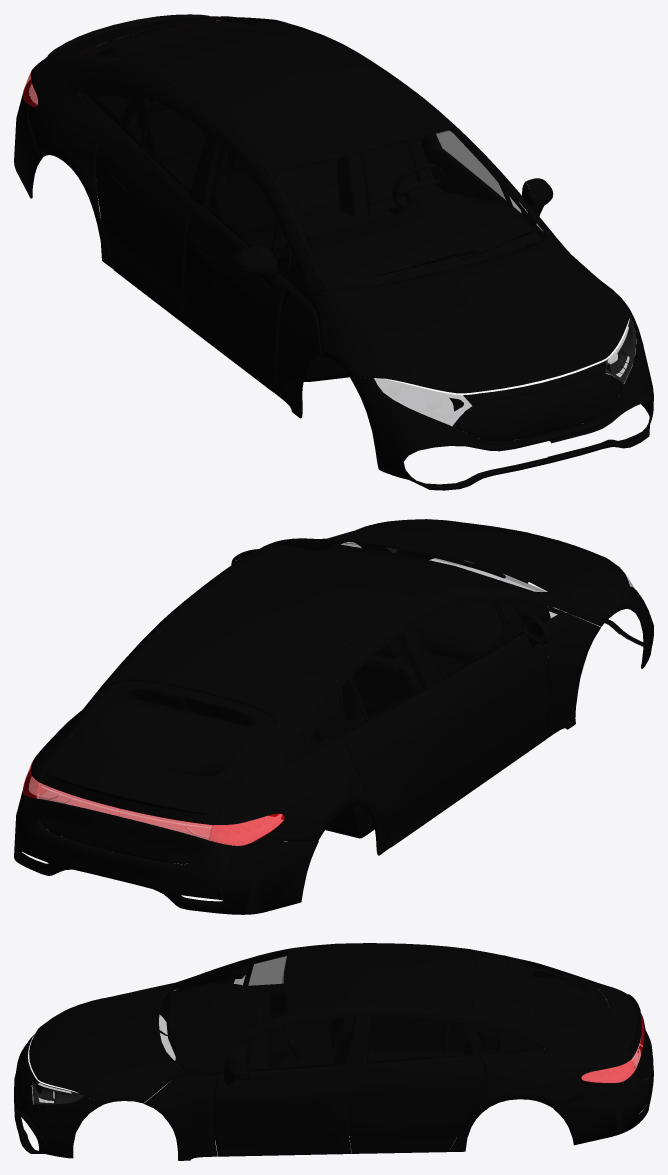
File: car.glb
3 renders of one model, top to bottom at view 1: azimuth 30°, elevation 25°; view 2: azimuth 150°, elevation 25°; view 3: azimuth 270°, elevation 25°, orthographic. The views are drawn at different scales.
Parts seen in each view (by area): view 1: Plane.002, windshield, Plane.006, BUMPER.004, BUMPER.001, Plane.004, Plane.001, headlight.002, HEADLIGHT, whipper.003, grill.001, front headlight.003; view 2: Plane.002, Plane.006, Plane.004, BUMPER.004, BUMPER.001, windshield, whipper.003, in light.004; view 3: Plane.002, Plane.004, Plane.006, windshield, BUMPER.004, BUMPER.001, Plane.001, front headlight.003, steer.002, grill.001.
Part boxes in pixels (x1=…): Plane.002: x1=14, y1=14, x2=653, y2=490; windshield: x1=272, y1=127, x2=547, y2=289; Plane.006: x1=157, y1=34, x2=451, y2=172; BUMPER.004: x1=276, y1=192, x2=542, y2=289; BUMPER.001: x1=125, y1=97, x2=428, y2=283; Plane.004: x1=90, y1=17, x2=545, y2=381; Plane.001: x1=374, y1=316, x2=636, y2=426; headlight.002: x1=463, y1=361, x2=605, y2=405; HEADLIGHT: x1=383, y1=318, x2=629, y2=419; whipper.003: x1=372, y1=227, x2=539, y2=286; grill.001: x1=548, y1=394, x2=653, y2=458; front headlight.003: x1=605, y1=315, x2=635, y2=383; Plane.002: x1=14, y1=519, x2=653, y2=914; Plane.006: x1=157, y1=544, x2=451, y2=674; Plane.004: x1=69, y1=541, x2=545, y2=838; BUMPER.004: x1=316, y1=545, x2=550, y2=725; BUMPER.001: x1=124, y1=638, x2=420, y2=742; windshield: x1=273, y1=538, x2=546, y2=591; whipper.003: x1=328, y1=536, x2=528, y2=583; in light.004: x1=29, y1=777, x2=281, y2=841; Plane.002: x1=14, y1=943, x2=653, y2=1160; Plane.004: x1=178, y1=951, x2=606, y2=1139; Plane.006: x1=283, y1=943, x2=475, y2=1012; windshield: x1=159, y1=949, x2=288, y2=1060; BUMPER.004: x1=166, y1=983, x2=288, y2=1076; BUMPER.001: x1=284, y1=1018, x2=499, y2=1066; Plane.001: x1=31, y1=1081, x2=83, y2=1103; front headlight.003: x1=32, y1=1081, x2=84, y2=1104; steer.002: x1=269, y1=1036, x2=291, y2=1064; grill.001: x1=14, y1=1096, x2=46, y2=1152.
Bounding box in the file's own units: 1.53 × 0.9306 × 3.69.
